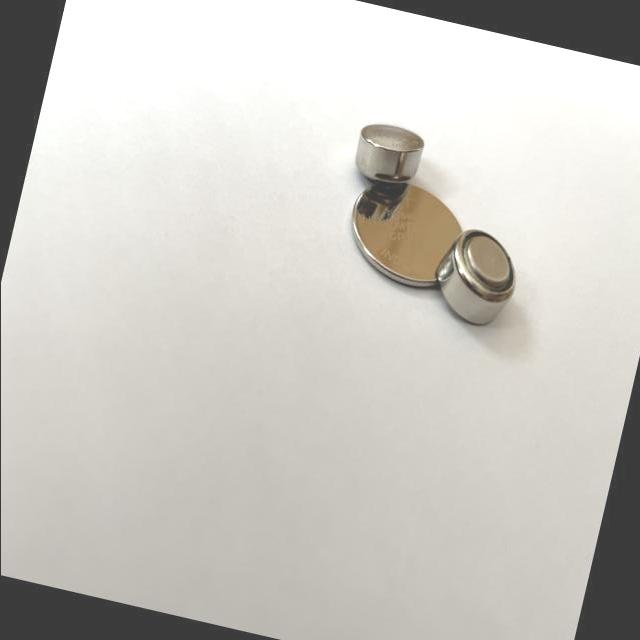COIN: (337, 173, 474, 297), (428, 224, 526, 333), (351, 118, 429, 190)
